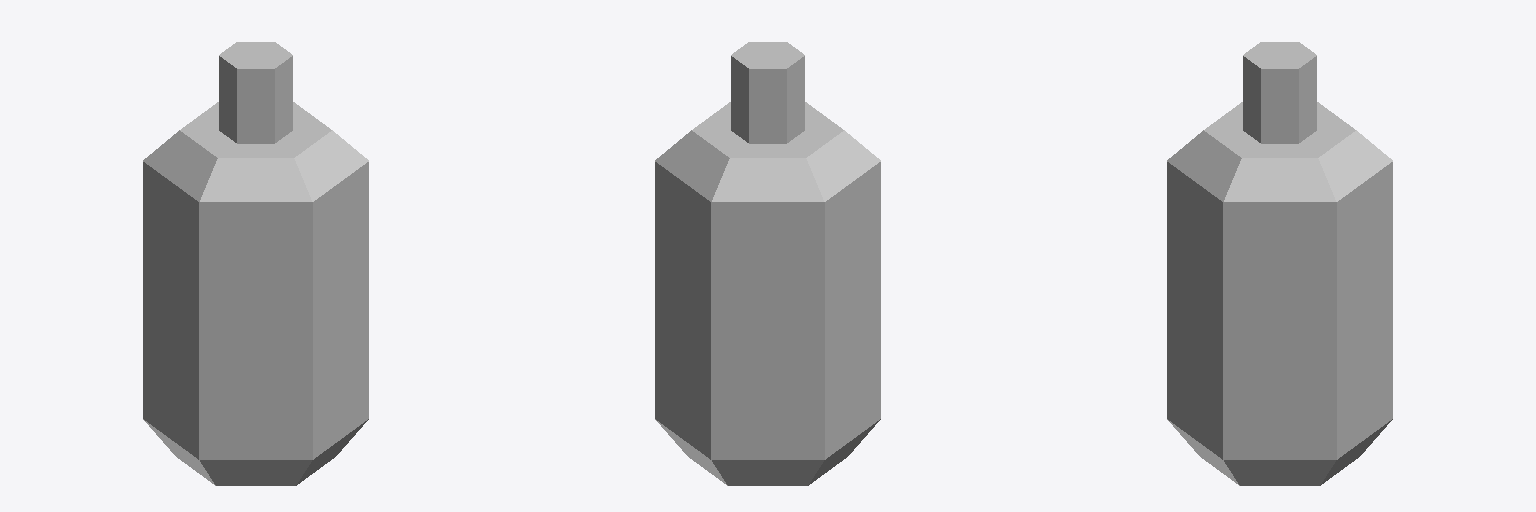
File: airTank.obj
3 views of the same model, side by side, from view 1: azimuth 30°, elevation 25°; view 2: azimuth 150°, elevation 25°; view 3: azimuth 270°, elevation 25° (orthographic).
Visible parts, largest first — view 1: Cylinder; view 2: Cylinder; view 3: Cylinder.
Boxes of the visible parts, x1=… form: Cylinder: x1=143, y1=42, x2=368, y2=485; Cylinder: x1=655, y1=42, x2=880, y2=485; Cylinder: x1=1167, y1=42, x2=1392, y2=485.
Bounding box in the file's own units: 1.73 × 3.91 × 2.